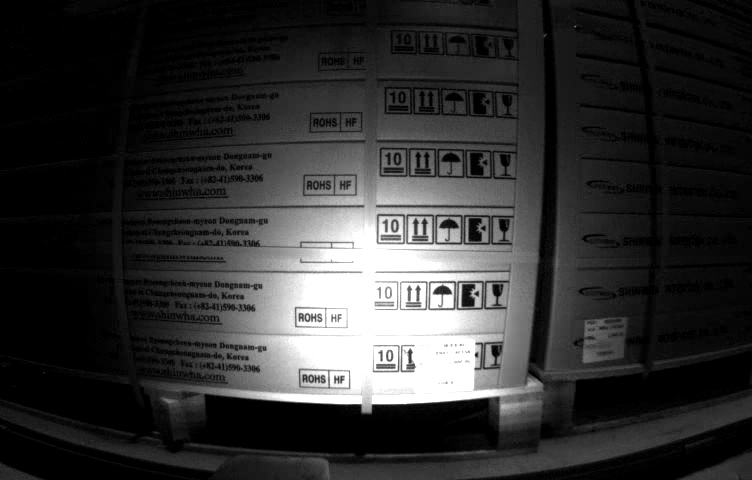True Barcode: (415, 337, 475, 394), (585, 319, 626, 361)
